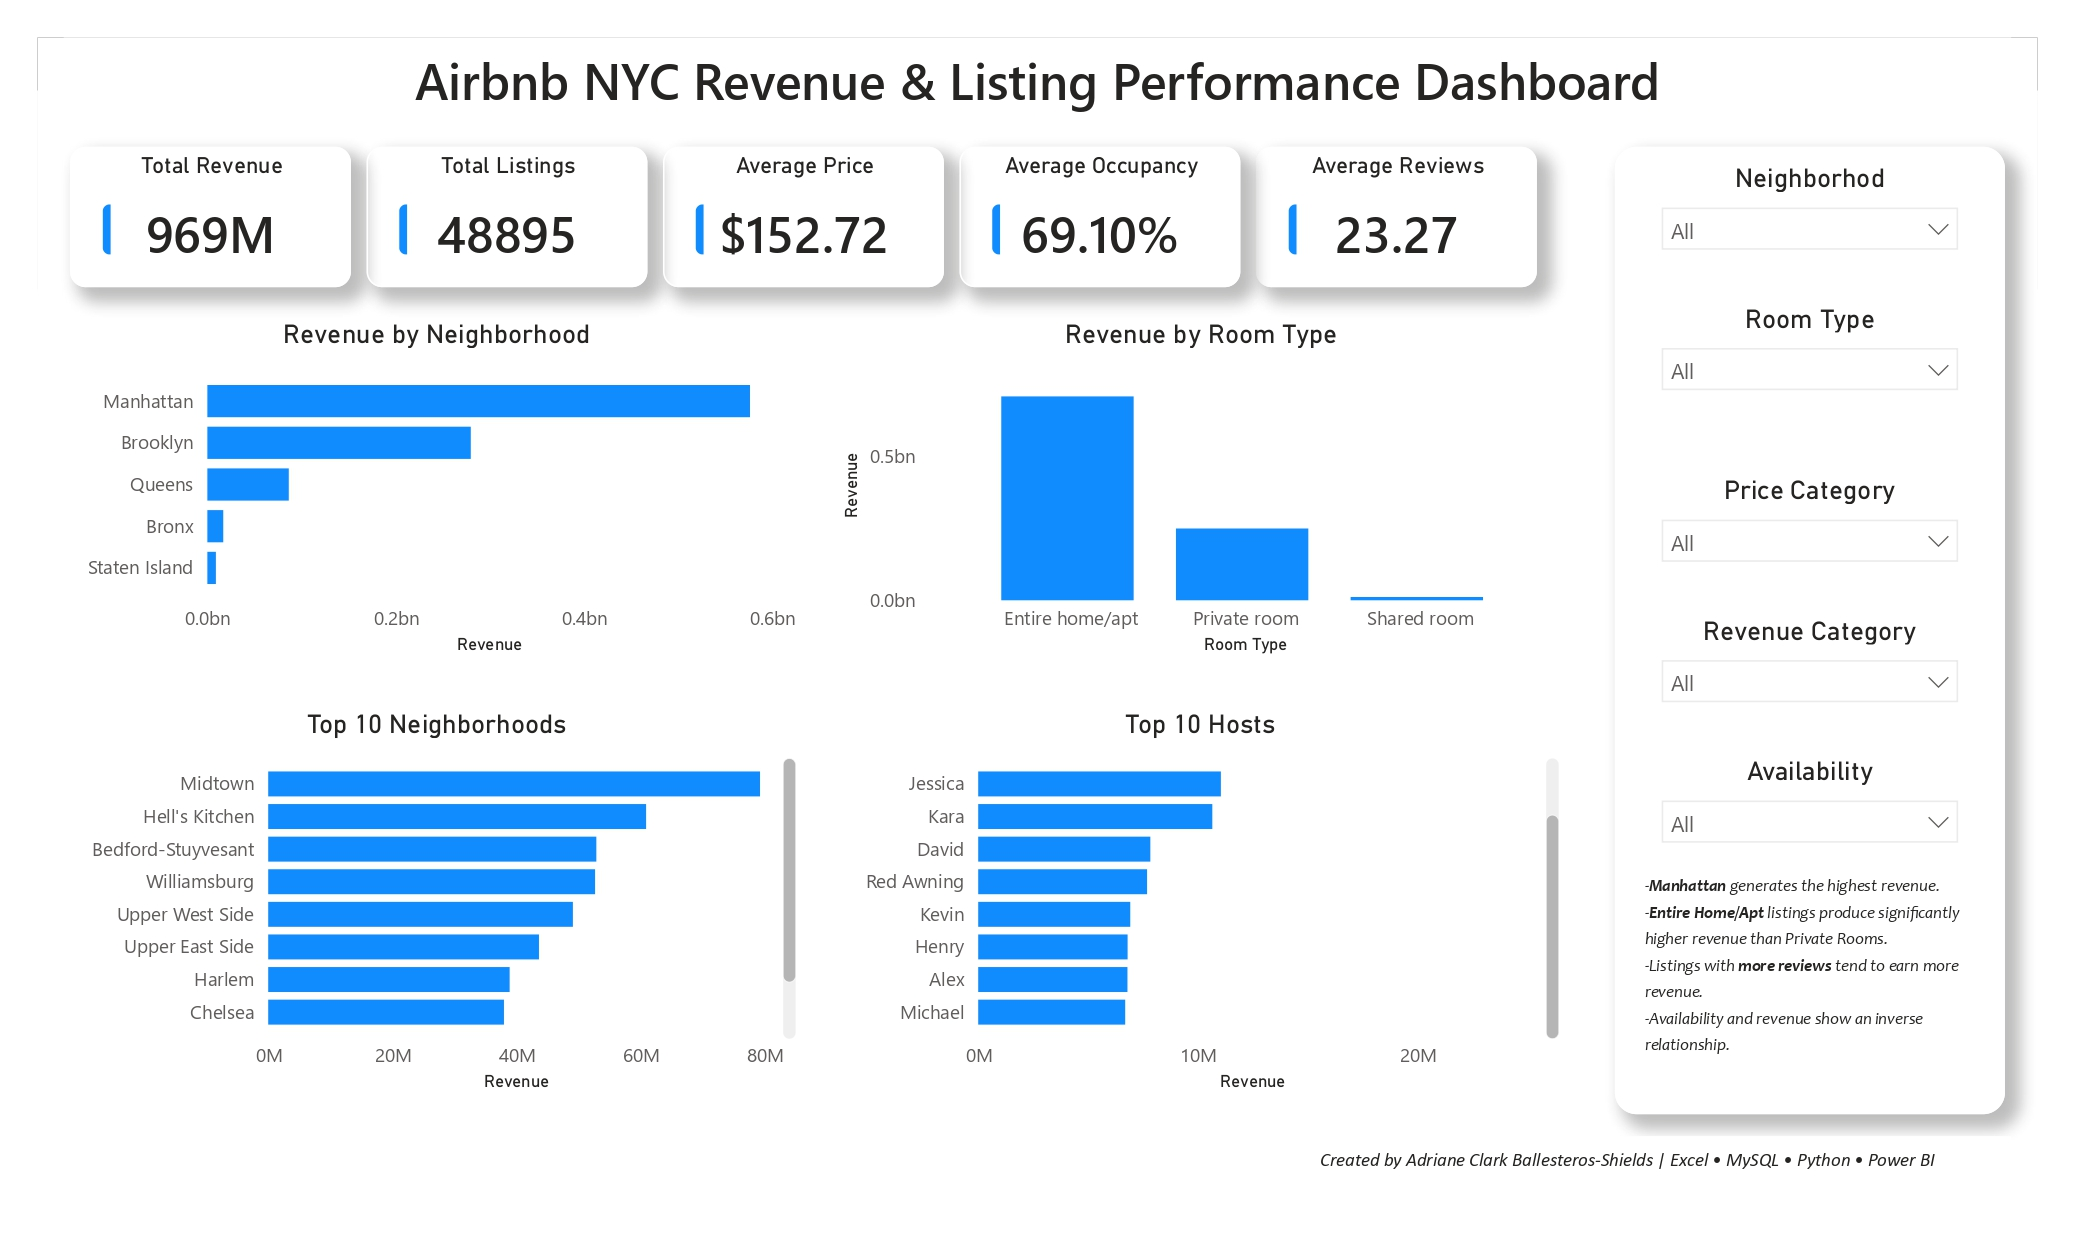

The dashboard page shown, as its layout file describes it:
{"tool":"powerbi","page":{"name":"Page 1","canvas":[1280,750],"ordinal":0},"visuals":[{"type":"shape","box":[1010,70,250,620],"z":0},{"type":"textbox","box":[16,0,1248,64],"z":1000},{"type":"cardVisual","title":"Total Revenue","fields":{"Data":["airbnb_cleaned_final.Total Revenue"]},"box":[20,70,180,90],"z":2000},{"type":"cardVisual","title":"Total Listings","fields":{"Data":["airbnb_cleaned_final.Total Listings"]},"box":[210,70,180,90],"z":3000},{"type":"cardVisual","title":"Average Price","fields":{"Data":["airbnb_cleaned_final.Average Price"]},"box":[400,70,180,90],"z":4000},{"type":"cardVisual","title":"Average Reviews","fields":{"Data":["airbnb_cleaned_final.Average Reviews"]},"box":[780,70,180,90],"z":5000},{"type":"cardVisual","title":"Average Occupancy","fields":{"Data":["airbnb_cleaned_final.Average Occupancy"]},"box":[590,70,180,90],"z":6000},{"type":"clusteredBarChart","title":"Revenue by Neighborhood","fields":{"Category":["airbnb_cleaned_final.neighbourhood_group"],"Y":["Sum(airbnb_cleaned_final.revenue_estimate)"]},"box":[20,180,470,220],"z":7000},{"type":"clusteredBarChart","title":"Top 10 Neighborhoods","fields":{"Category":["airbnb_cleaned_final.neighbourhood"],"Y":["Sum(airbnb_cleaned_final.revenue_estimate)"]},"box":[20,430,470,250],"z":8000},{"type":"clusteredColumnChart","title":"Revenue by Room Type","fields":{"Category":["airbnb_cleaned_final.room_type"],"Y":["Sum(airbnb_cleaned_final.revenue_estimate)"]},"box":[510,180,470,220],"z":9000},{"type":"barChart","title":"Top 10 Hosts","fields":{"Category":["airbnb_cleaned_final.host_name"],"Y":["Sum(airbnb_cleaned_final.revenue_estimate)"]},"box":[510,430,469,250],"z":10000},{"type":"slicer","title":"Neighborhod","fields":{"Values":["airbnb_cleaned_final.neighbourhood_group"]},"box":[1030,80,210,80],"z":11000},{"type":"slicer","title":"Room Type","fields":{"Values":["airbnb_cleaned_final.room_type"]},"box":[1030,170,210,100],"z":12000},{"type":"slicer","title":"Revenue Category","fields":{"Values":["airbnb_cleaned_final.Revenue Category"]},"box":[1030,370,210,80],"z":13000},{"type":"slicer","title":"Price Category","fields":{"Values":["airbnb_cleaned_final.Price Category"]},"box":[1030,280,210,80],"z":14000},{"type":"slicer","title":"Availability","fields":{"Values":["airbnb_cleaned_final.Availability Category"]},"box":[1030,460,210,80],"z":15000},{"type":"textbox","box":[816,704,448,32],"z":16000},{"type":"textbox","box":[1024,528,216,155],"z":17000}]}

Visuals, with their boxes on the page's 1280x750 design canvas (x1, y1, x2, y2). These are canvas units, not pixel positions in the 2075x1246 screenshot, which may show the page scaled, cropped or inside an application window:
shape: 1010/70/1260/690
textbox: 16/0/1264/64
"Total Revenue" cardVisual: 20/70/200/160
"Total Listings" cardVisual: 210/70/390/160
"Average Price" cardVisual: 400/70/580/160
"Average Reviews" cardVisual: 780/70/960/160
"Average Occupancy" cardVisual: 590/70/770/160
"Revenue by Neighborhood" clusteredBarChart: 20/180/490/400
"Top 10 Neighborhoods" clusteredBarChart: 20/430/490/680
"Revenue by Room Type" clusteredColumnChart: 510/180/980/400
"Top 10 Hosts" barChart: 510/430/979/680
"Neighborhod" slicer: 1030/80/1240/160
"Room Type" slicer: 1030/170/1240/270
"Revenue Category" slicer: 1030/370/1240/450
"Price Category" slicer: 1030/280/1240/360
"Availability" slicer: 1030/460/1240/540
textbox: 816/704/1264/736
textbox: 1024/528/1240/683
